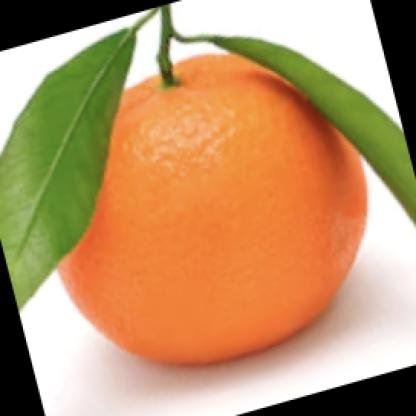fresh: (69, 52, 368, 356)
